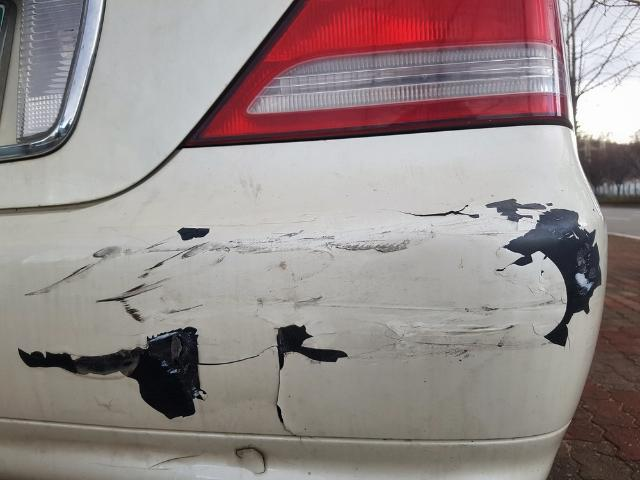crack: (16, 322, 349, 437), (381, 204, 480, 219)
scratch: (22, 195, 601, 362)
